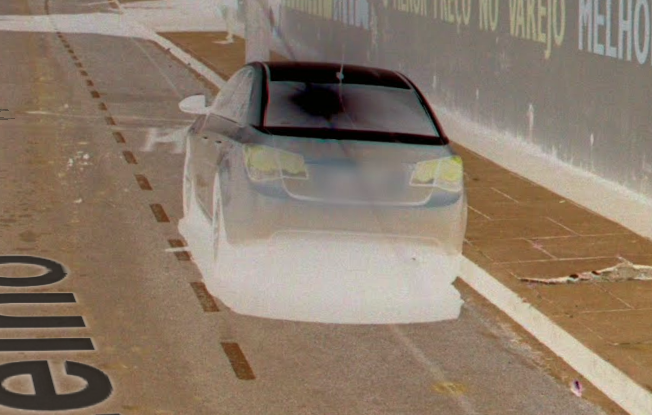car: (173, 40, 479, 295)
